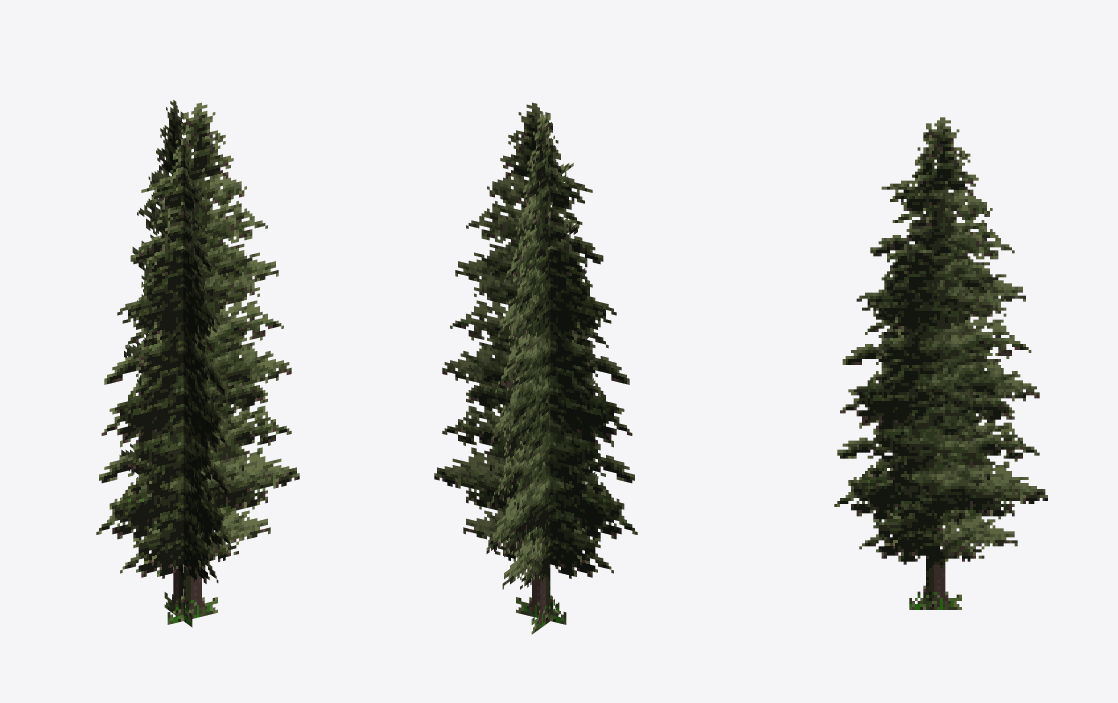
The model's file is tree.glb.
The picture shows the model from 3 angles, left to right: view 1: azimuth 30°, elevation 25°; view 2: azimuth 150°, elevation 25°; view 3: azimuth 270°, elevation 25°; orthographic projection. The views are drawn at different scales.
Visible parts, largest first — view 1: Plane, Plane.001; view 2: Plane, Plane.001; view 3: Plane.001.
Boxes of the visible parts, x1,y1,x2,y2 form: Plane: (96, 102, 299, 624); Plane.001: (119, 100, 231, 627); Plane: (434, 102, 637, 624); Plane.001: (486, 112, 598, 634); Plane.001: (834, 117, 1047, 609).
Size of the model in its own units: 3.28 by 5 by 3.12.
1 material, 1 textured.
